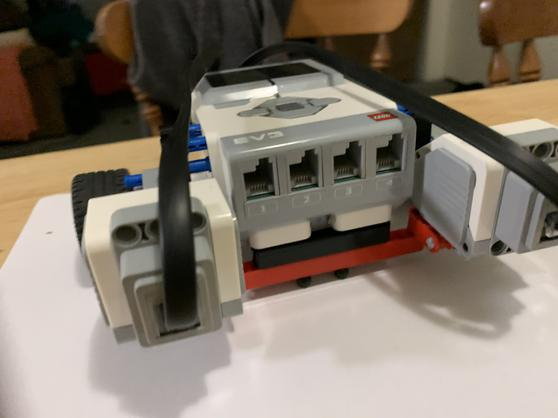robot: (65, 32, 558, 356)
